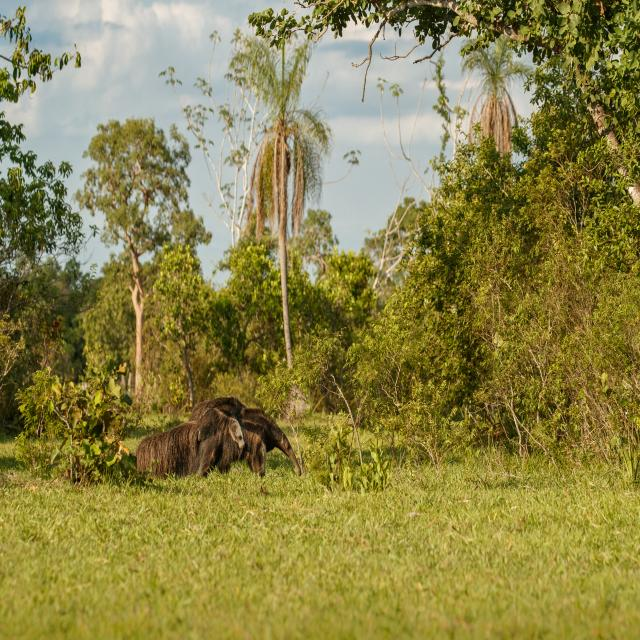Forest: (5, 109, 640, 640)
